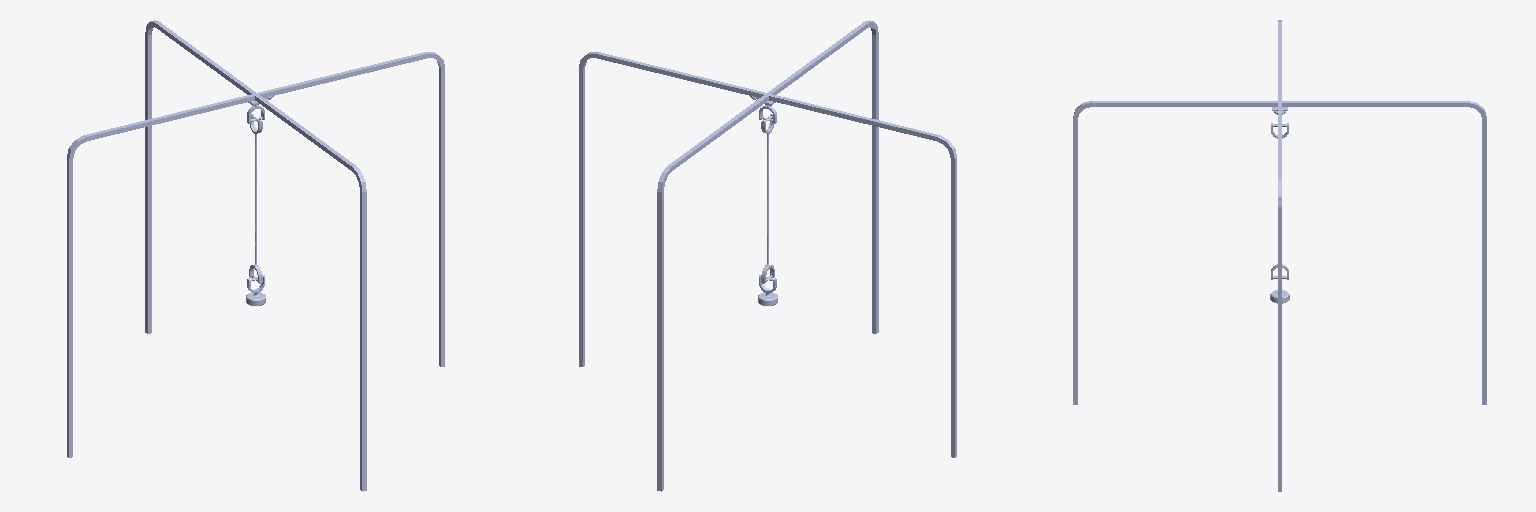
URDF robot description (arm_light9):
<?xml version="1.0" encoding="utf-8"?>
<!-- This URDF was automatically created by SolidWorks to URDF Exporter! Originally created by [author] ([email redacted]) 
     Commit Version: 1.6.0-1-g15f4949  Build Version: 1.6.7594.29634
     For more information, please see http://wiki.ros.org/sw_urdf_exporter -->
<robot
  name="arm_light9">
  
  <link name="world" /> 
  <joint name="world_to_base_link" type="fixed">
    <parent link="world"/>
    <child link="base_link"/>
    <origin xyz="0 0 0.85" rpy="0 0 0"/>
  </joint>
  
  <link
    name="base_link">
    <inertial>
      <origin
        xyz="8.94290462428726E-05 2.78483347493363E-10 -0.208778551951711"
        rpy="0 0 0" />
      <mass
        value="0.449330133854053" />
      <inertia
        ixx="0.0539092238947072"
        ixy="-1.7562186006245E-12"
        ixz="-8.29193804528805E-06"
        iyy="0.0539103657676842"
        iyz="-1.71571228617907E-11"
        izz="0.0602540208531343" />
    </inertial>
    <visual>
      <origin
        xyz="0 0 0"
        rpy="0 0 0" />
      <geometry>
        <mesh
          filename="package://arm_light9/meshes/base_link.STL" />
      </geometry>
      <material
        name="">
        <color
          rgba="0.792156862745098 0.819607843137255 0.933333333333333 1" />
      </material>
    </visual>
    <collision>
      <origin
        xyz="0 0 0"
        rpy="0 0 0" />
      <geometry>
        <mesh
          filename="package://arm_light9/meshes/base_link.STL" />
      </geometry>
    </collision>
  </link>
  <link
    name="link_up">
    <inertial>
      <origin
        xyz="-7.30702054418941E-10 6.31382612858999E-10 0.0137182340788042"
        rpy="0 0 0" />
      <mass
        value="0.00271384463303043" />
      <inertia
        ixx="2.55706917709004E-07"
        ixy="3.66626721136024E-14"
        ixz="-1.21345198507066E-14"
        iyy="7.65929454031126E-07"
        iyz="1.75042183249186E-14"
        izz="5.4854582703903E-07" />
    </inertial>
    <visual>
      <origin
        xyz="0 0 0"
        rpy="0 0 0" />
      <geometry>
        <mesh
          filename="package://arm_light9/meshes/link_up.STL" />
      </geometry>
      <material
        name="">
        <color
          rgba="0.792156862745098 0.819607843137255 0.933333333333333 1" />
      </material>
    </visual>
    <collision>
      <origin
        xyz="0 0 0"
        rpy="0 0 0" />
      <geometry>
        <mesh
          filename="package://arm_light9/meshes/link_up.STL" />
      </geometry>
    </collision>
  </link>
  <joint
    name="joint1"
    type="continuous">
    <origin
      xyz="0 0 -0.015457"
      rpy="-3.1416 0 0" />
    <parent
      link="base_link" />
    <child
      link="link_up" />
    <axis
      xyz="0 0 1" />
    <limit
      lower="0"
      upper="6"
      effort="0"
      velocity="0" />
    <dynamics
      friction="0.1" />
  </joint>
  <link
    name="crossbar1">
    <inertial>
      <origin
        xyz="-2.9141502433383E-08 -1.35715272353565E-10 -3.10173056128349E-08"
        rpy="0 0 0" />
      <mass
        value="0.00146868153142243" />
      <inertia
        ixx="9.37700107469679E-08"
        ixy="-2.04043583279686E-14"
        ixz="2.11690645332782E-16"
        iyy="1.82956722375402E-07"
        iyz="4.16688239815433E-15"
        izz="9.37699903359982E-08" />
    </inertial>
    <visual>
      <origin
        xyz="0 0 0"
        rpy="0 0 0" />
      <geometry>
        <mesh
          filename="package://arm_light9/meshes/crossbar1.STL" />
      </geometry>
      <material
        name="">
        <color
          rgba="0.792156862745098 0.819607843137255 0.933333333333333 1" />
      </material>
    </visual>
    <collision>
      <origin
        xyz="0 0 0"
        rpy="0 0 0" />
      <geometry>
        <mesh
          filename="package://arm_light9/meshes/crossbar1.STL" />
      </geometry>
    </collision>
  </link>
  <joint
    name="joint2"
    type="continuous">
    <origin
      xyz="0 0 0.0295"
      rpy="-1.5708 0 0" />
    <parent
      link="link_up" />
    <child
      link="crossbar1" />
    <axis
      xyz="1 0 0" />
    <dynamics
      friction="0.1" />
  </joint>
  <link
    name="link_middle">
    <inertial>
      <origin
        xyz="1.53740309372097E-08 2.43111719644418E-08 0.175502855957032"
        rpy="0 0 0" />
      <mass
        value="0.0113939749912111" />
      <inertia
        ixx="0.000184717795085116"
        ixy="-2.12361111057736E-12"
        ixz="-8.31018622091395E-12"
        iyy="0.000185738466505756"
        iyz="1.42198467361369E-11"
        izz="1.11626506835403E-06" />
    </inertial>
    <visual>
      <origin
        xyz="0 0 0"
        rpy="0 0 0" />
      <geometry>
        <mesh
          filename="package://arm_light9/meshes/link_middle.STL" />
      </geometry>
      <material
        name="">
        <color
          rgba="0.792156862745098 0.819607843137255 0.933333333333333 1" />
      </material>
    </visual>
    <collision>
      <origin
        xyz="0 0 0"
        rpy="0 0 0" />
      <geometry>
        <mesh
          filename="package://arm_light9/meshes/link_middle.STL" />
      </geometry>
    </collision>
  </link>
  <joint
    name="joint3"
    type="continuous">
    <origin
      xyz="0 0 0"
      rpy="1.5708 1.5708 0" />
    <parent
      link="crossbar1" />
    <child
      link="link_middle" />
    <axis
      xyz="1 0 0" />
  </joint>
  <link
    name="crossbar2">
    <inertial>
      <origin
        xyz="-2.91415096498326E-08 -1.35718020155551E-10 -3.1017304169545E-08"
        rpy="0 0 0" />
      <mass
        value="0.00146868153142241" />
      <inertia
        ixx="9.37700107469651E-08"
        ixy="-2.04043577480892E-14"
        ixz="2.11690703891051E-16"
        iyy="1.829567223754E-07"
        iyz="4.1668823669535E-15"
        izz="9.3769990335999E-08" />
    </inertial>
    <visual>
      <origin
        xyz="0 0 0"
        rpy="0 0 0" />
      <geometry>
        <mesh
          filename="package://arm_light9/meshes/crossbar2.STL" />
      </geometry>
      <material
        name="">
        <color
          rgba="0.792156862745098 0.819607843137255 0.933333333333333 1" />
      </material>
    </visual>
    <collision>
      <origin
        xyz="0 0 0"
        rpy="0 0 0" />
      <geometry>
        <mesh
          filename="package://arm_light9/meshes/crossbar2.STL" />
      </geometry>
    </collision>
  </link>
  <joint
    name="joint4"
    type="continuous">
    <origin
      xyz="0 0 0.351"
      rpy="-1.5708 0 1.5708" />
    <parent
      link="link_middle" />
    <child
      link="crossbar2" />
    <axis
      xyz="0 0 1" />
    <dynamics
      friction="0.1" />
  </joint>
  <link
    name="end_effector">
    <inertial>
      <origin
        xyz="4.75393613363906E-10 -3.04907765702467E-10 -0.0405659213973987"
        rpy="0 0 0" />
      <mass
        value="0.0215930283892407" />
      <inertia
        ixx="4.36749924006053E-06"
        ixy="-1.48655886188051E-13"
        ixz="-1.80318003777662E-13"
        iyy="4.87786085449838E-06"
        iyz="8.34458849125056E-14"
        izz="4.1413060831826E-06" />
    </inertial>
    <visual>
      <origin
        xyz="0 0 0"
        rpy="0 0 0" />
      <geometry>
        <mesh
          filename="package://arm_light9/meshes/end_effector.STL" />
      </geometry>
      <material
        name="">
        <color
          rgba="0.792156862745098 0.819607843137255 0.933333333333333 1" />
      </material>
    </visual>
    <collision>
      <origin
        xyz="0 0 0"
        rpy="0 0 0" />
      <geometry>
        <mesh
          filename="package://arm_light9/meshes/end_effector.STL" />
      </geometry>
    </collision>
  </link>
  <joint
    name="joint5"
    type="continuous">
    <origin
      xyz="0 0 0"
      rpy="-1.5708 0 0" />
    <parent
      link="crossbar2" />
    <child
      link="end_effector" />
    <axis
      xyz="1 0 0" />
    <dynamics
      friction="0.1" />
  </joint>
</robot>

--- Render facts (derived) ---
The picture shows the robot from 3 angles, left to right: view 1: azimuth 30°, elevation 25°; view 2: azimuth 150°, elevation 25°; view 3: azimuth 270°, elevation 25°; orthographic projection.
Robot: arm_light9 — 7 links, 6 joints (5 continuous, 1 fixed); root link world; default pose: every joint at zero.
Links seen in each view (by area): view 1: base_link, link_middle; view 2: base_link, link_middle; view 3: base_link.
Link boxes in pixels (bbox=[...]): base_link: bbox=[67, 20, 444, 491]; link_middle: bbox=[249, 114, 262, 283]; base_link: bbox=[579, 20, 956, 491]; link_middle: bbox=[761, 114, 774, 283]; base_link: bbox=[1073, 20, 1486, 491].
Bounding box of the posed robot: 0.8671 × 0.8671 × 0.6977 m (x, y, z).
6 mesh visuals loaded from 6 distinct referenced files (6 binary STL).